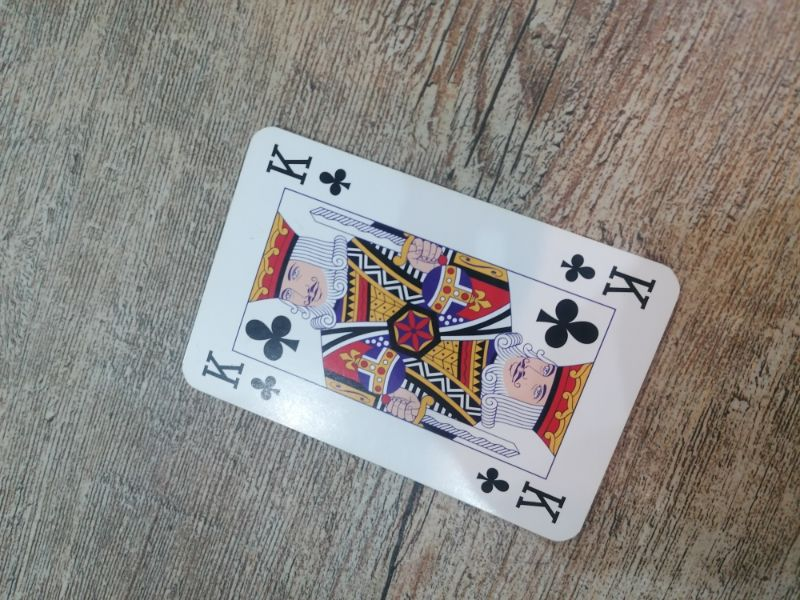Kc: (558, 249, 659, 316), (473, 463, 570, 530), (262, 138, 355, 206), (196, 345, 284, 406)
